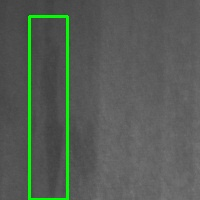inclusion: (29, 16, 67, 199)
